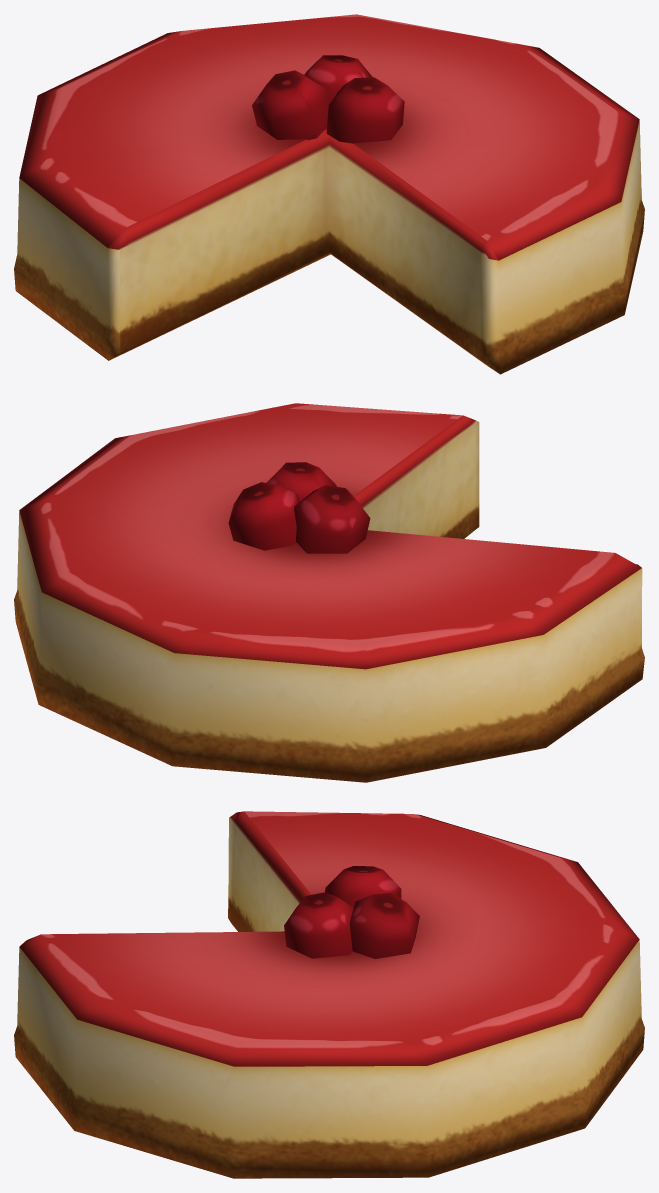
The model's file is Cherry_Cheesecake_Cut.fbx.
3 views of the same model, one above another, from view 1: azimuth 30°, elevation 25°; view 2: azimuth 150°, elevation 25°; view 3: azimuth 270°, elevation 25° (orthographic).
Parts seen in each view (by area): view 1: Cherry_Cheesecake_Cut; view 2: Cherry_Cheesecake_Cut; view 3: Cherry_Cheesecake_Cut.
Boxes of the visible parts, x1,y1,x2,y2 form: Cherry_Cheesecake_Cut: (14,14,644,374); Cherry_Cheesecake_Cut: (14,403,644,782); Cherry_Cheesecake_Cut: (14,811,644,1178).
Bounding box in the file's own units: 79.53 × 25.01 × 82.4.
